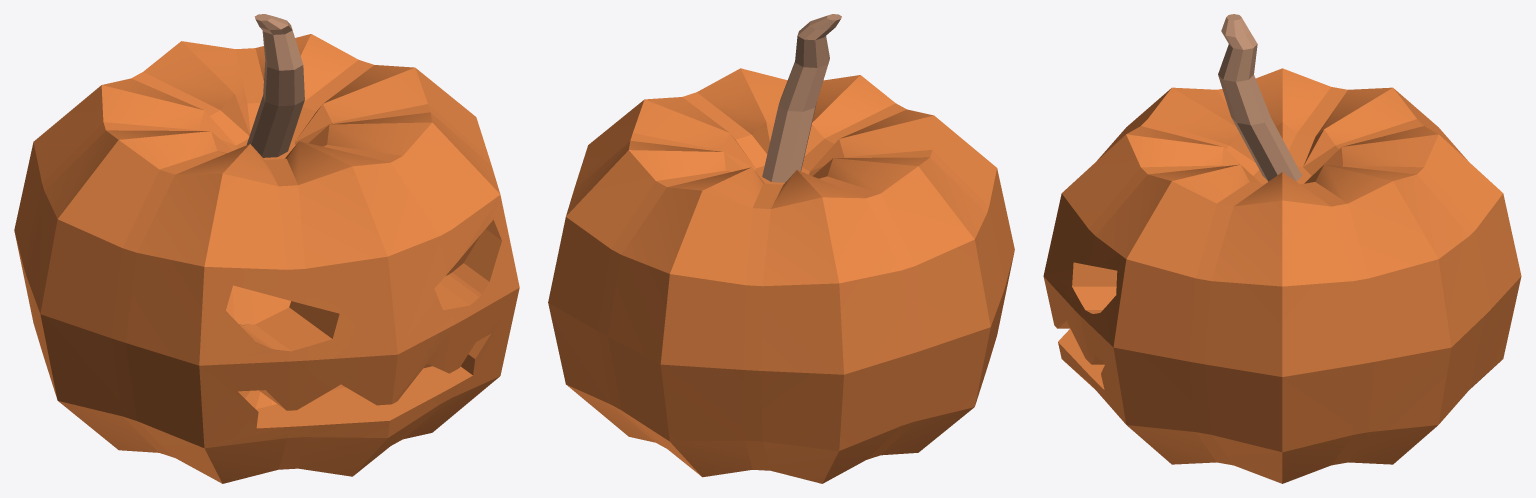
Rendered from calabaza.obj.
3 renders of one model, left to right at view 1: azimuth 30°, elevation 25°; view 2: azimuth 150°, elevation 25°; view 3: azimuth 270°, elevation 25°, orthographic. The views are drawn at different scales.
Visible parts, largest first — view 1: Sphere, Sphere.001; view 2: Sphere, Sphere.001; view 3: Sphere, Sphere.001.
Part boxes in pixels (bbox=[...]): Sphere: bbox=[14, 34, 519, 483]; Sphere.001: bbox=[246, 14, 304, 157]; Sphere: bbox=[548, 68, 1014, 483]; Sphere.001: bbox=[762, 14, 841, 182]; Sphere: bbox=[1043, 68, 1521, 483]; Sphere.001: bbox=[1218, 14, 1301, 181].
Bounding box in the file's own units: 2 × 1.79 × 2.
Materials: 2 (2 with a texture image).
